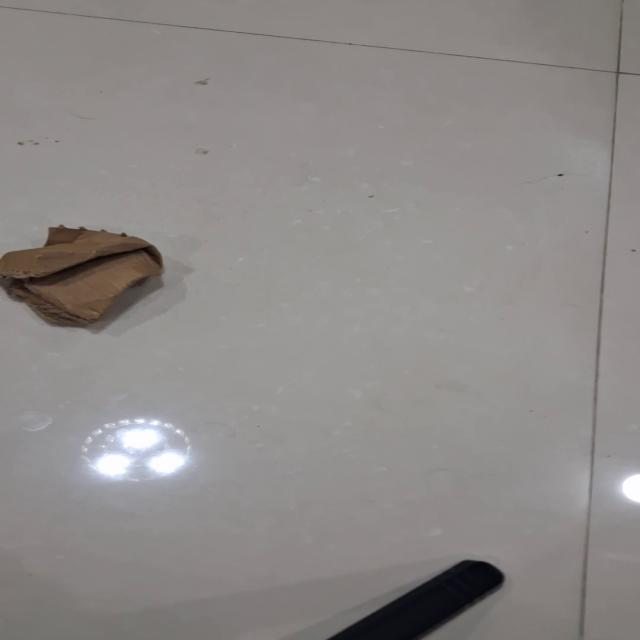paper: (0, 224, 164, 327)
